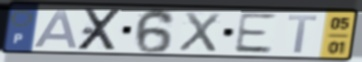6: (133, 7, 178, 56)
A: (31, 8, 80, 50)
E: (231, 11, 278, 55)
T: (286, 13, 320, 55)
X: (75, 8, 126, 52), (176, 10, 223, 54)
